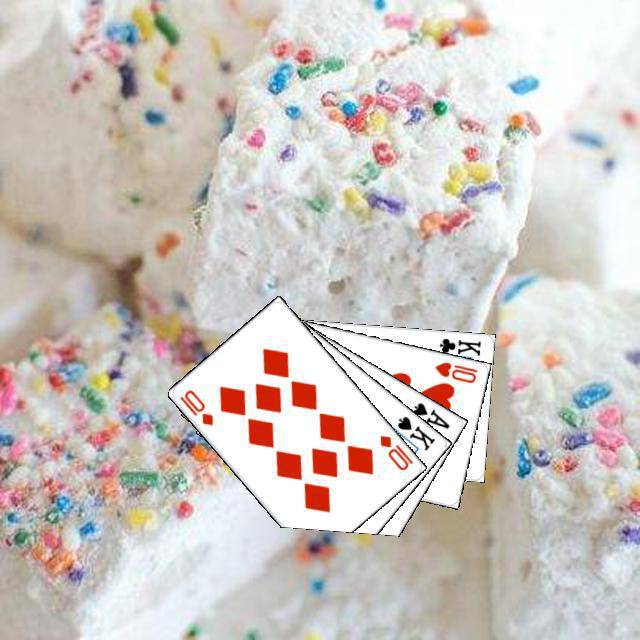10d: (375, 430, 415, 472), (175, 385, 215, 427)
10h: (430, 357, 479, 385)
As: (408, 397, 452, 431)
Kc: (429, 333, 482, 361)
Ks: (392, 411, 437, 453)
